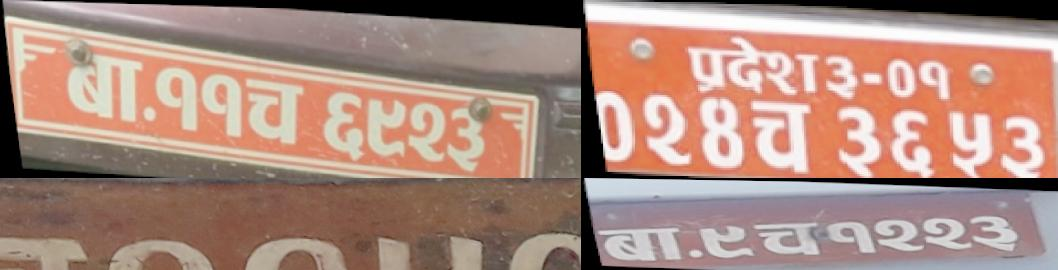0: (592, 85, 638, 165), (878, 52, 919, 99)
1: (146, 60, 204, 138), (192, 62, 247, 143), (816, 215, 875, 257), (912, 55, 956, 101)
2: (629, 88, 696, 170), (398, 95, 449, 164), (915, 213, 974, 252), (866, 214, 926, 252)
3: (231, 228, 358, 270), (95, 230, 225, 270), (819, 100, 884, 178), (987, 106, 1049, 178), (494, 221, 581, 270), (435, 98, 488, 170), (961, 210, 1026, 253), (816, 50, 862, 98)
4: (688, 92, 749, 174)
5: (934, 103, 1001, 178)
6: (357, 226, 493, 270), (309, 81, 368, 163), (878, 101, 940, 178)
9: (358, 86, 408, 162), (690, 223, 756, 261)
ba: (55, 43, 150, 129), (592, 222, 695, 267)
cha: (739, 95, 819, 178), (237, 68, 310, 148), (746, 216, 827, 258)
